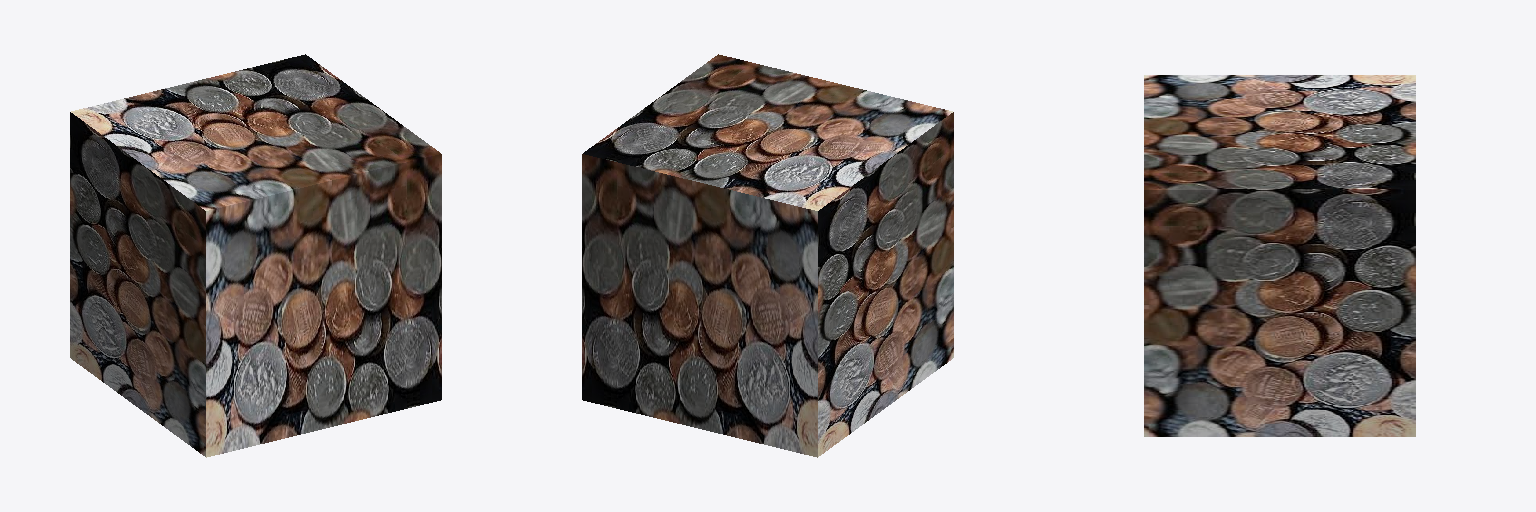
3 views of the same model, side by side, from view 1: azimuth 30°, elevation 25°; view 2: azimuth 150°, elevation 25°; view 3: azimuth 270°, elevation 25° (orthographic).
Visible parts, largest first — view 1: Cube; view 2: Cube; view 3: Cube.
Part boxes in pixels (bbox=[...]): Cube: bbox=[70, 54, 441, 457]; Cube: bbox=[582, 54, 953, 457]; Cube: bbox=[1144, 75, 1415, 436].
Size of the model in its own units: 1.28 by 1.28 by 1.28.
1 materials, 1 textured.